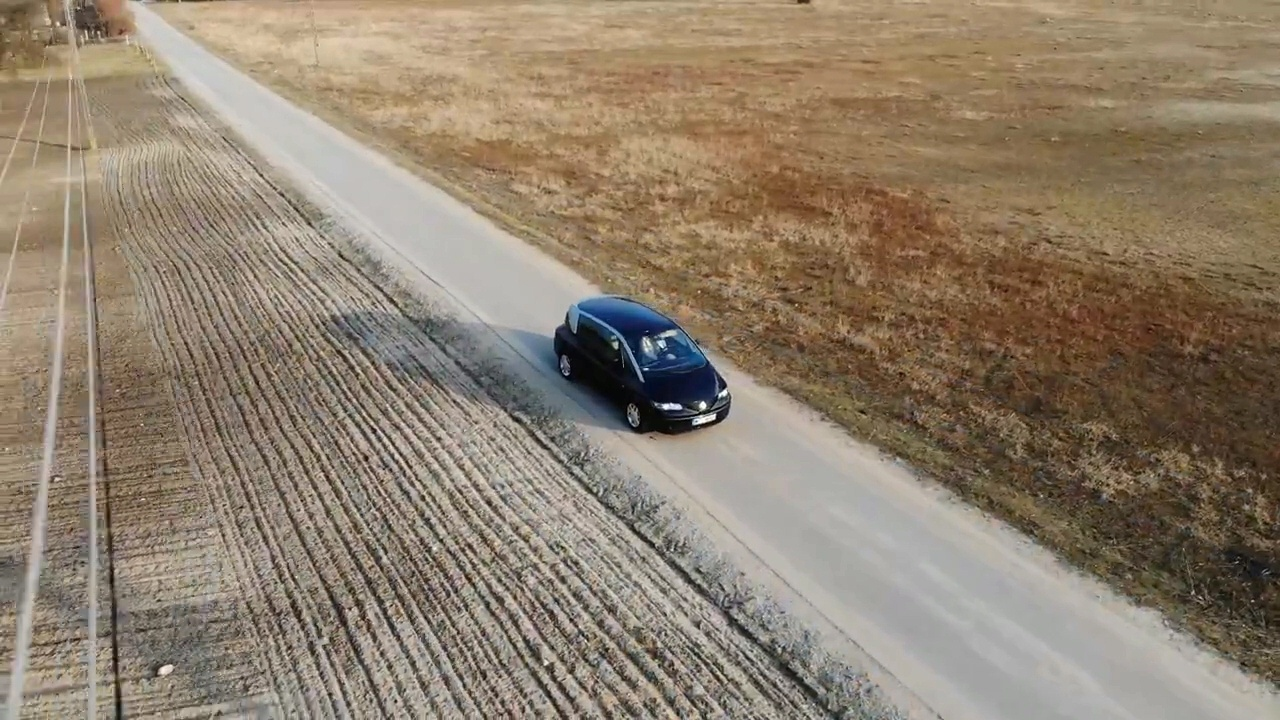araba: (554, 295, 735, 436)
